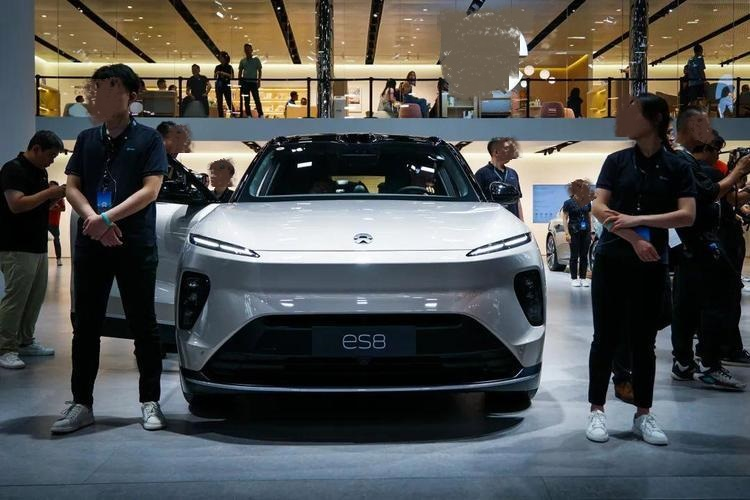NIO: (353, 231, 374, 246)
